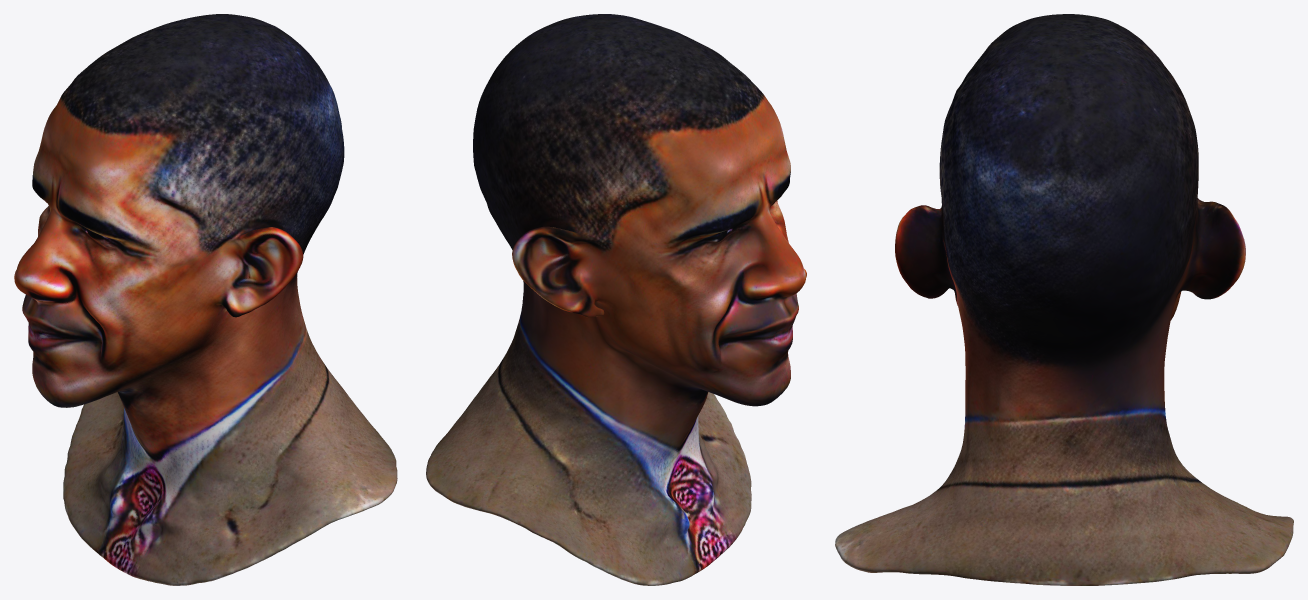
File: c1a8bc86bedf_c640d68d2d6b_Photo_Realistic_rea.glb
The picture shows the model from 3 angles, left to right: view 1: azimuth 30°, elevation 25°; view 2: azimuth 150°, elevation 25°; view 3: azimuth 270°, elevation 25°; orthographic projection. The views are drawn at different scales.
Visible parts, largest first — view 1: high_poly; view 2: high_poly; view 3: high_poly.
Part boxes in pixels (<box>): high_poly: <box>14,14,397,585</box>; high_poly: <box>426,14,806,585</box>; high_poly: <box>835,14,1293,585</box>.
Size of the model in its own units: 0.6566 by 1 by 0.7131.
Materials: 1 (1 with a texture image).
